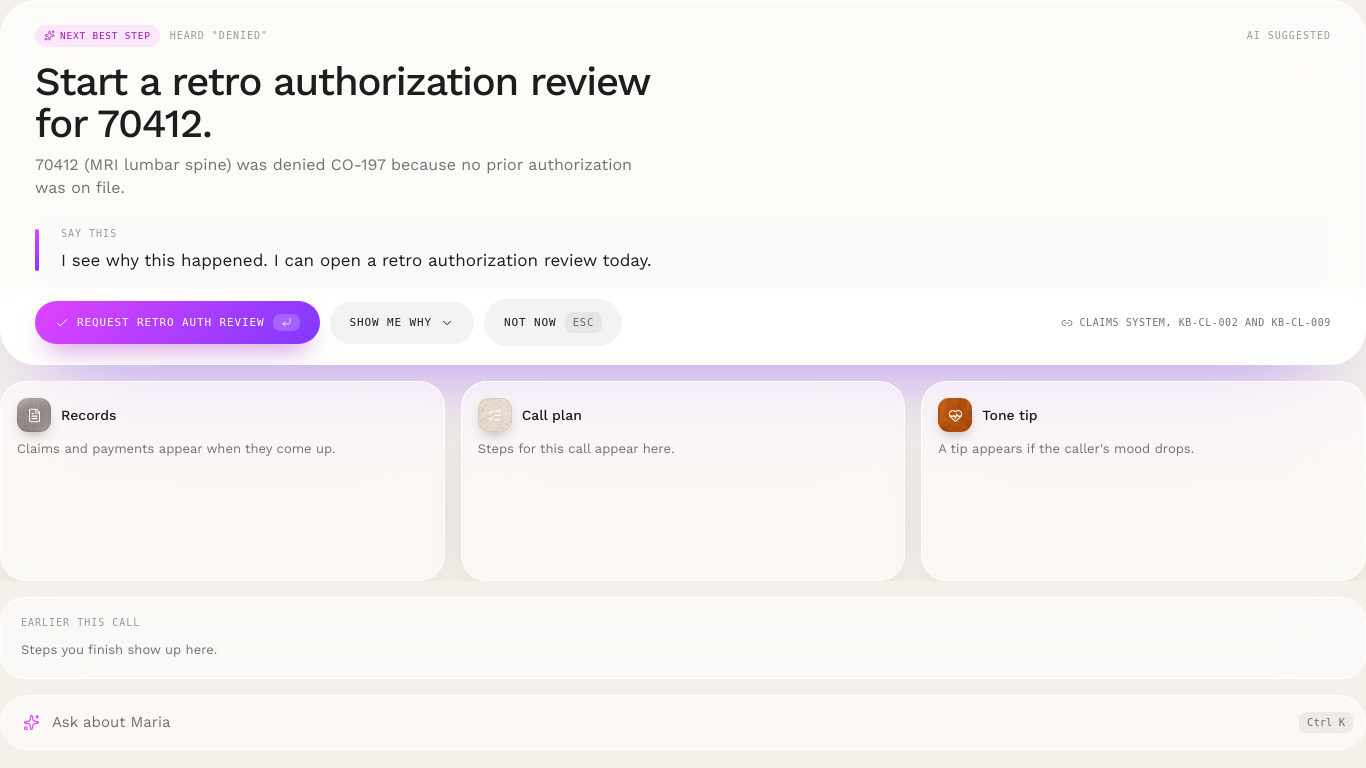
Test: AssistColumn Ask bar (P4-6, AP-8) › Enter in the Ask field never accepts the hero; Esc leaves the field without dismissing it
The width and height of the screenshot is (1366, 768).
Step 1. Press k
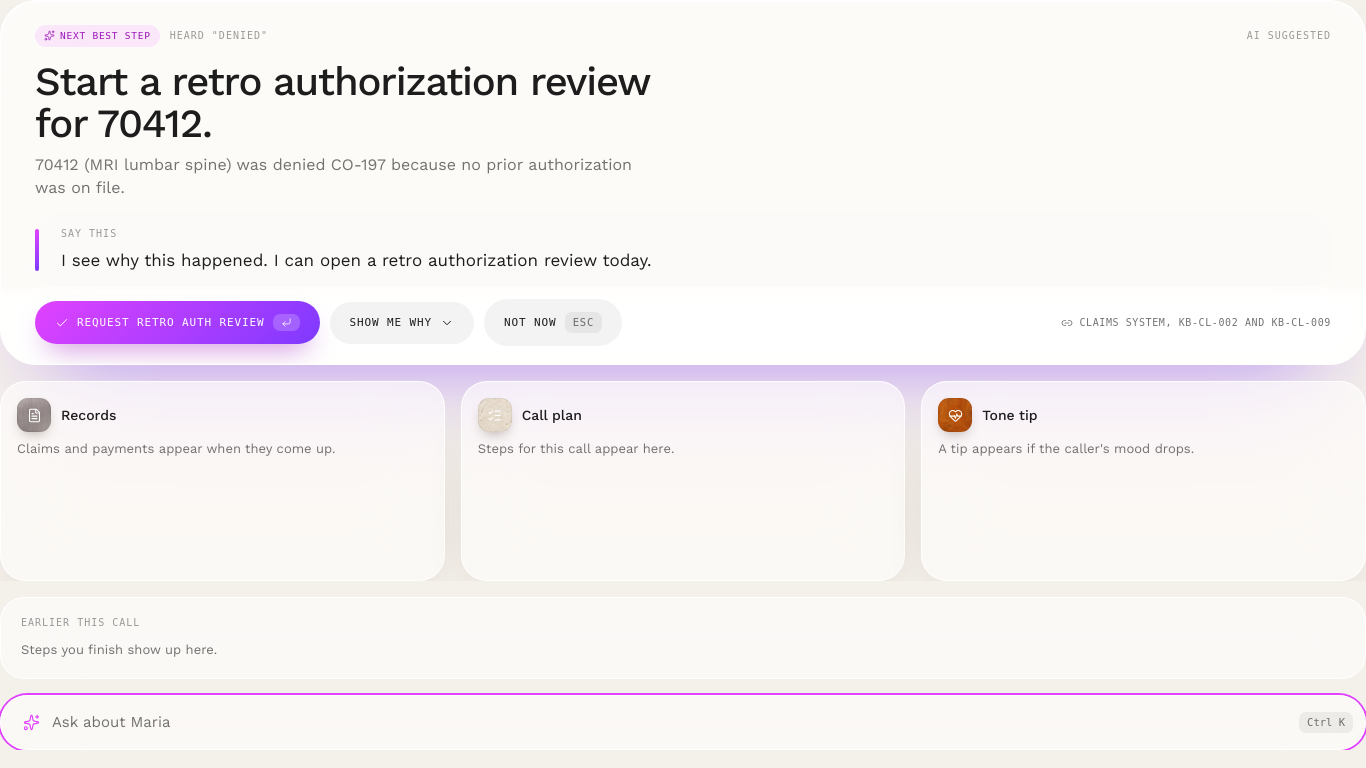
Step 2. Press Enter in the field named "Ask", box x1=52 y1=704 x2=1287 y2=742
Step 3. Type "half a question" into the field named "Ask" → (670, 723), box x1=52 y1=704 x2=1287 y2=742
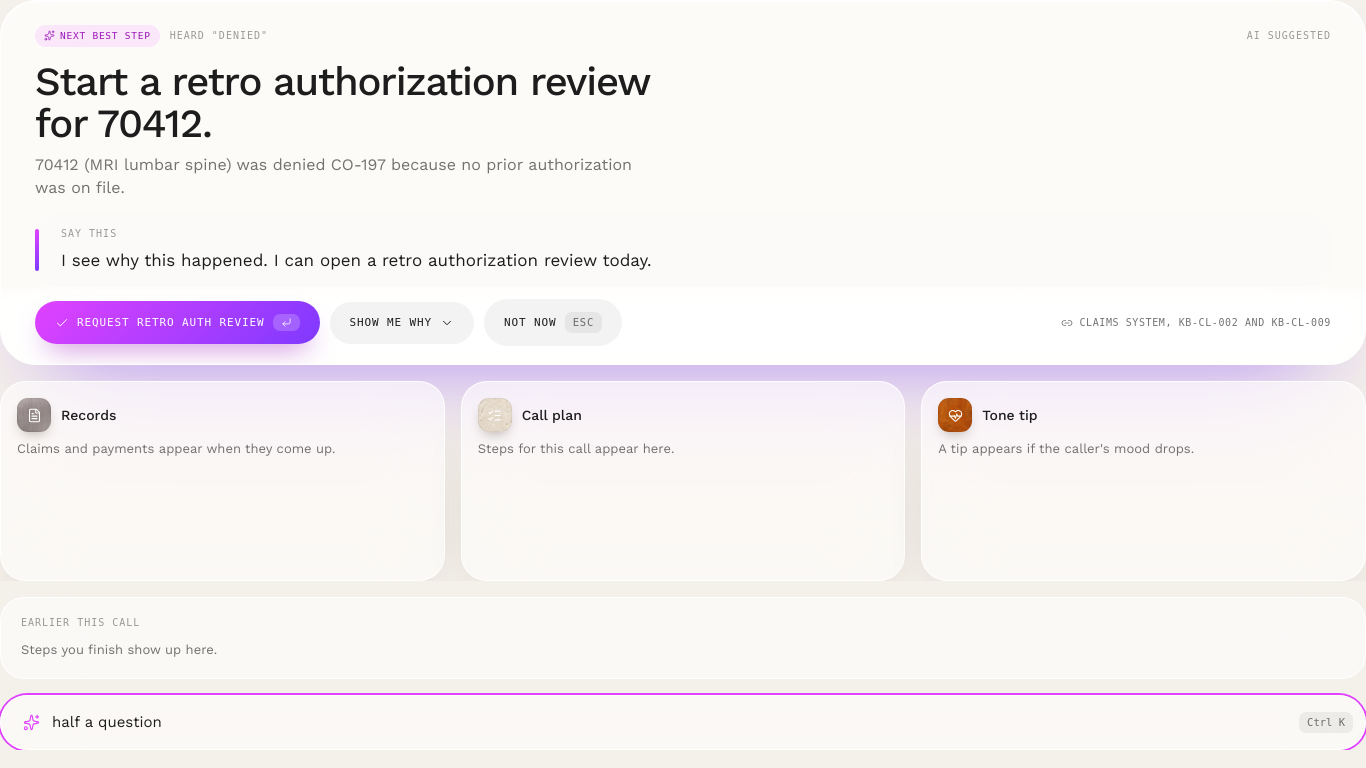
Step 4. Press Escape in the field named "Ask", box x1=52 y1=704 x2=1287 y2=742
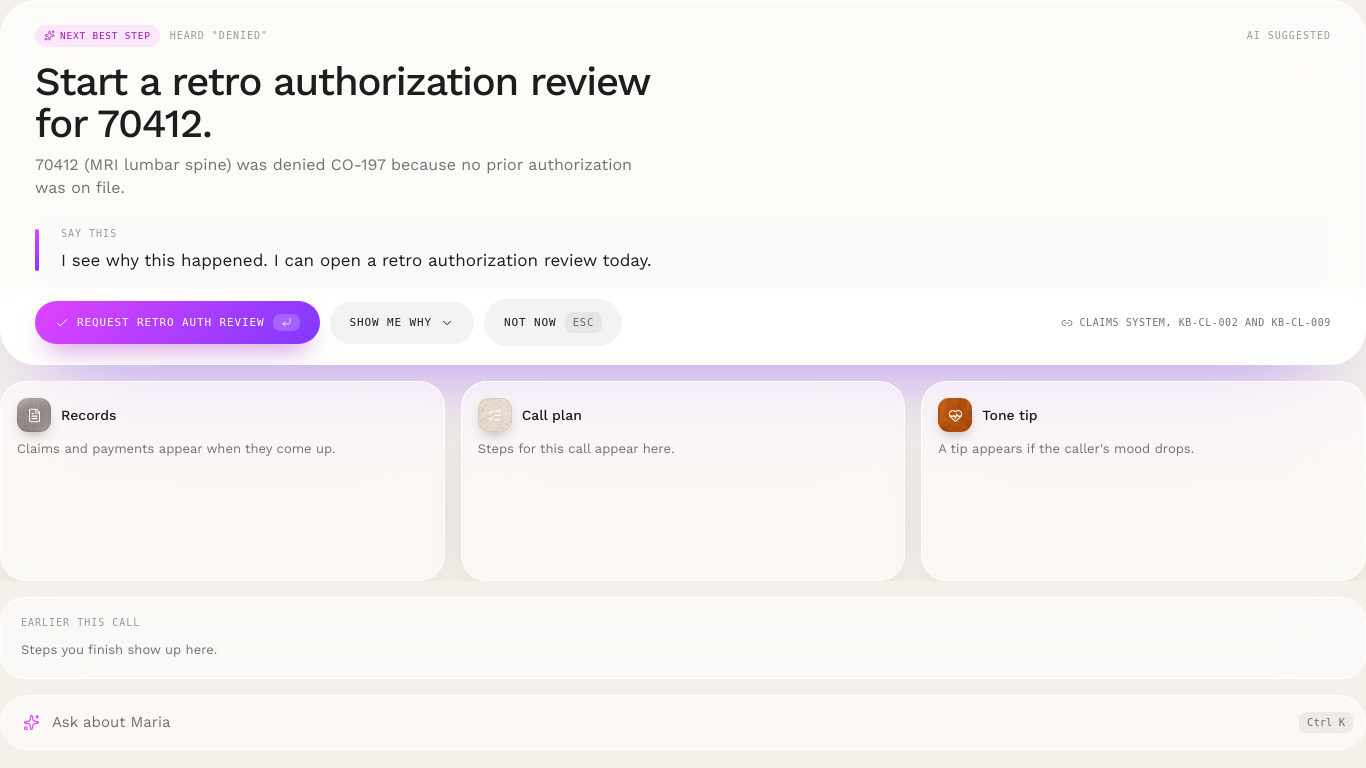
Check: the field named "Ask" is empty, box x1=52 y1=704 x2=1287 y2=742
